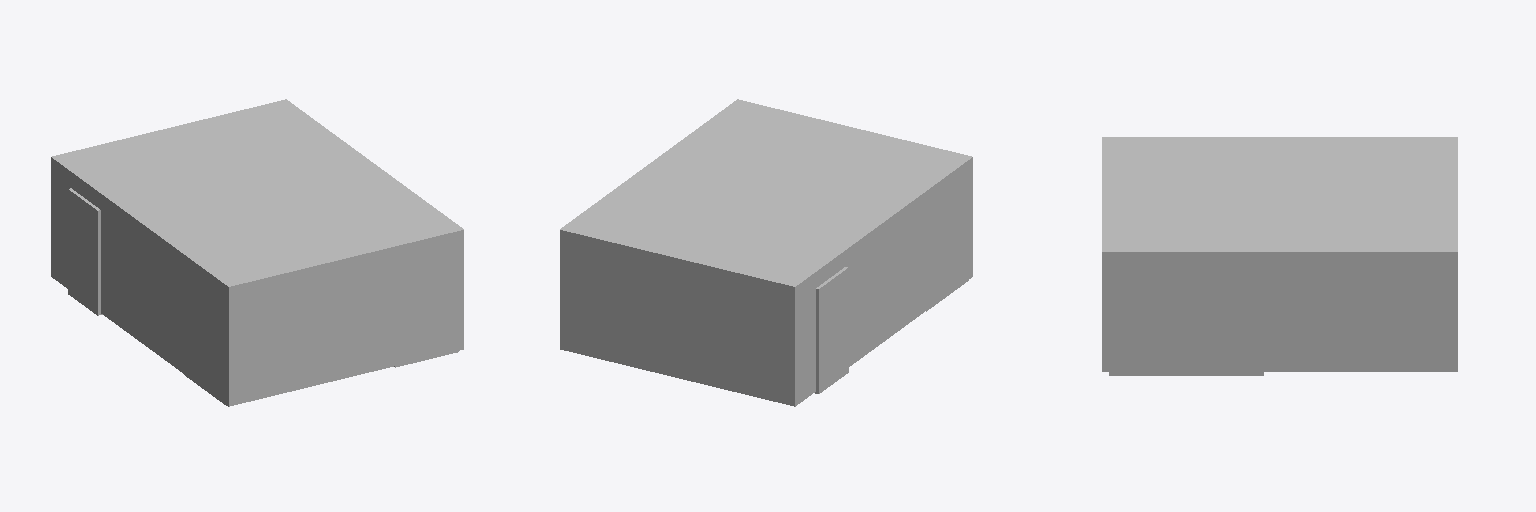
The model's file is room2.obj.
The picture shows the model from 3 angles: view 1: azimuth 30°, elevation 25°; view 2: azimuth 150°, elevation 25°; view 3: azimuth 270°, elevation 25°; orthographic projection.
Parts seen in each view (by area): view 1: Room_Walls, Door_Cube; view 2: Room_Walls, Door_Cube; view 3: Room_Walls, Bed_Cube.001.
Part boxes in pixels (x1,y1,x2,y2): Room_Walls: (51, 99, 463, 406); Door_Cube: (68, 188, 102, 315); Room_Walls: (560, 99, 972, 406); Door_Cube: (815, 267, 848, 393); Room_Walls: (1102, 137, 1457, 371); Bed_Cube.001: (1109, 372, 1263, 375).
Size of the model in its own units: 12.12 by 6.05 by 15.65.